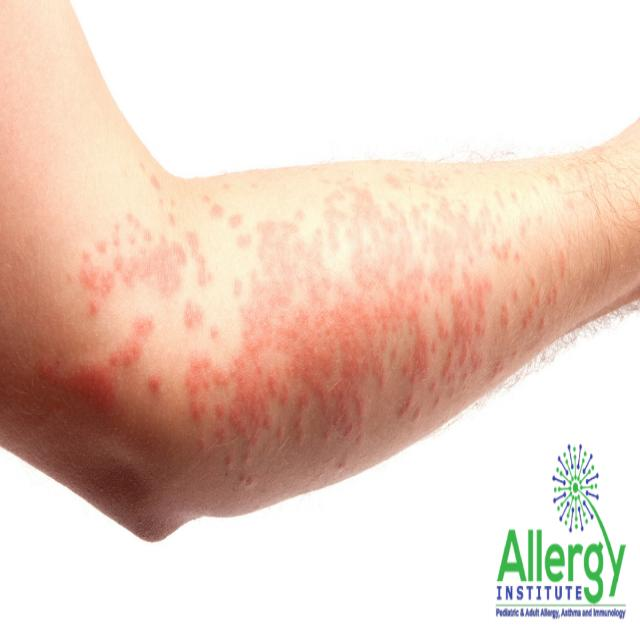hives: (77, 119, 560, 431)
